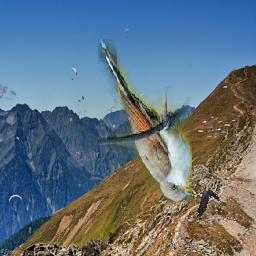Crow: (197, 189, 224, 217)
Cuckoo: (98, 40, 192, 203)
